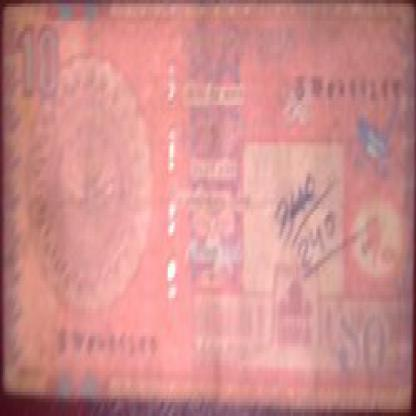Ten Taka: (328, 308, 399, 385), (16, 24, 72, 111)
